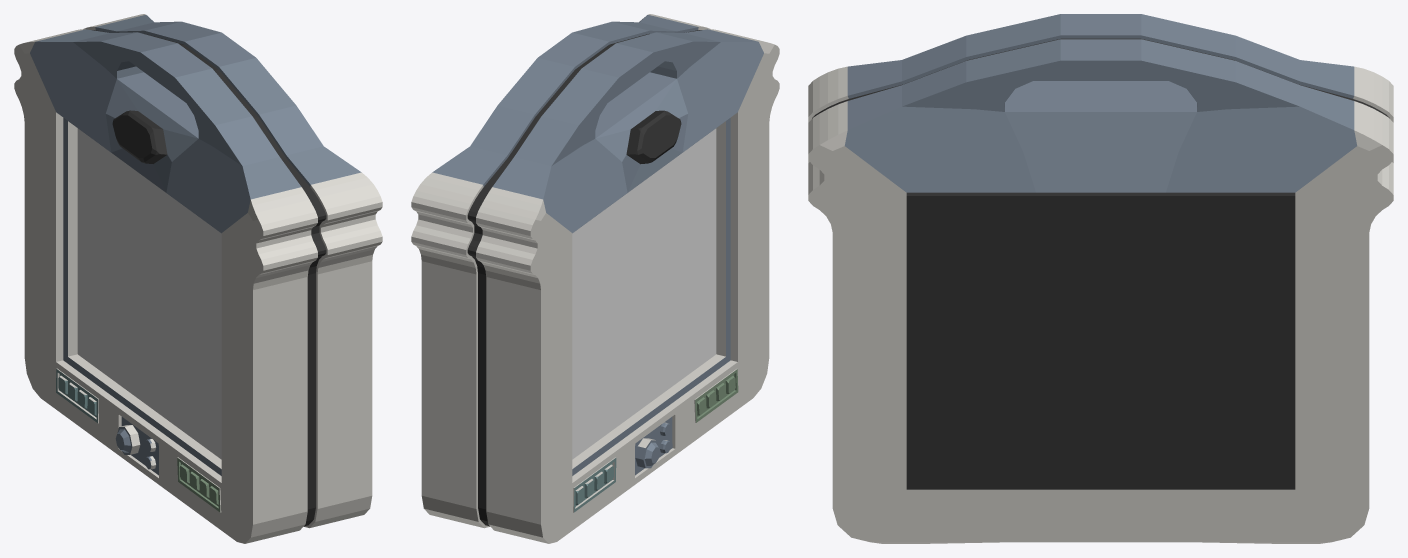
File: Monitor.fbx
The picture shows the model from 3 angles, left to right: view 1: azimuth 30°, elevation 25°; view 2: azimuth 150°, elevation 25°; view 3: azimuth 270°, elevation 25°; orthographic projection. The views are drawn at different scales.
Parts seen in each view (by area): view 1: Cube, Plane; view 2: Cube, Plane; view 3: Cube.
Part boxes in pixels (box(x1,y1,x2,y2)): Cube: box(14, 14, 382, 543); Plane: box(77, 128, 221, 459); Cube: box(411, 14, 779, 543); Plane: box(572, 128, 716, 459); Cube: box(808, 14, 1393, 543).
Bounding box in the file's own units: 113 × 327 × 361.
